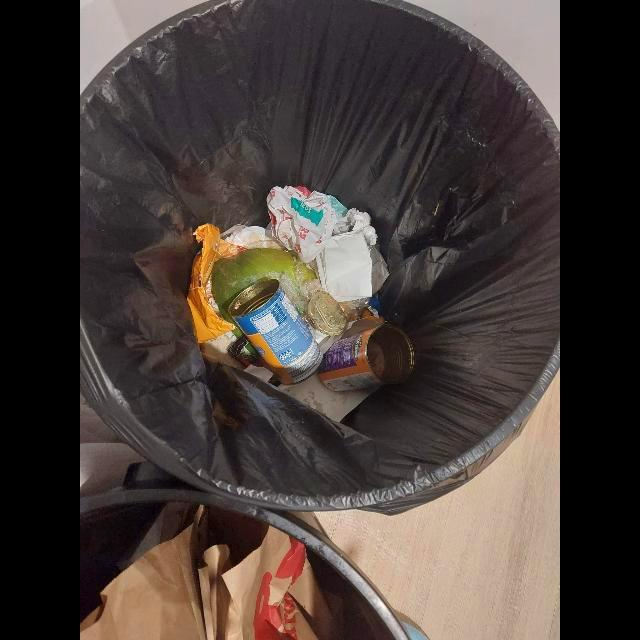aluminum: (228, 279, 324, 385), (318, 325, 414, 392), (307, 291, 349, 336)
food_wrapper: (187, 223, 238, 344)
left_over_food: (212, 249, 323, 339)
paper: (266, 186, 350, 264), (278, 373, 380, 423), (316, 230, 372, 303), (345, 208, 378, 246)
